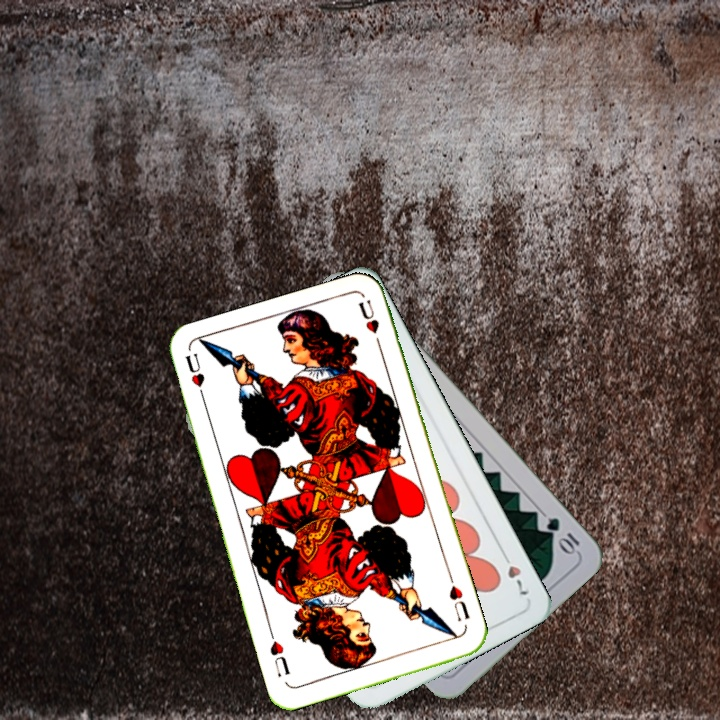G10: (542, 513, 583, 557)
H7: (496, 546, 532, 598)
HU: (181, 348, 209, 407), (445, 581, 473, 624)
